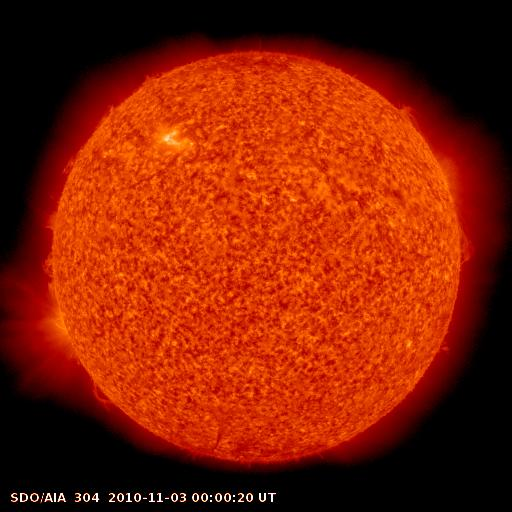prominence: (24, 198, 73, 303), (389, 90, 428, 139), (457, 214, 486, 276), (53, 140, 97, 176), (81, 370, 118, 412), (132, 61, 170, 101), (93, 98, 124, 128)
